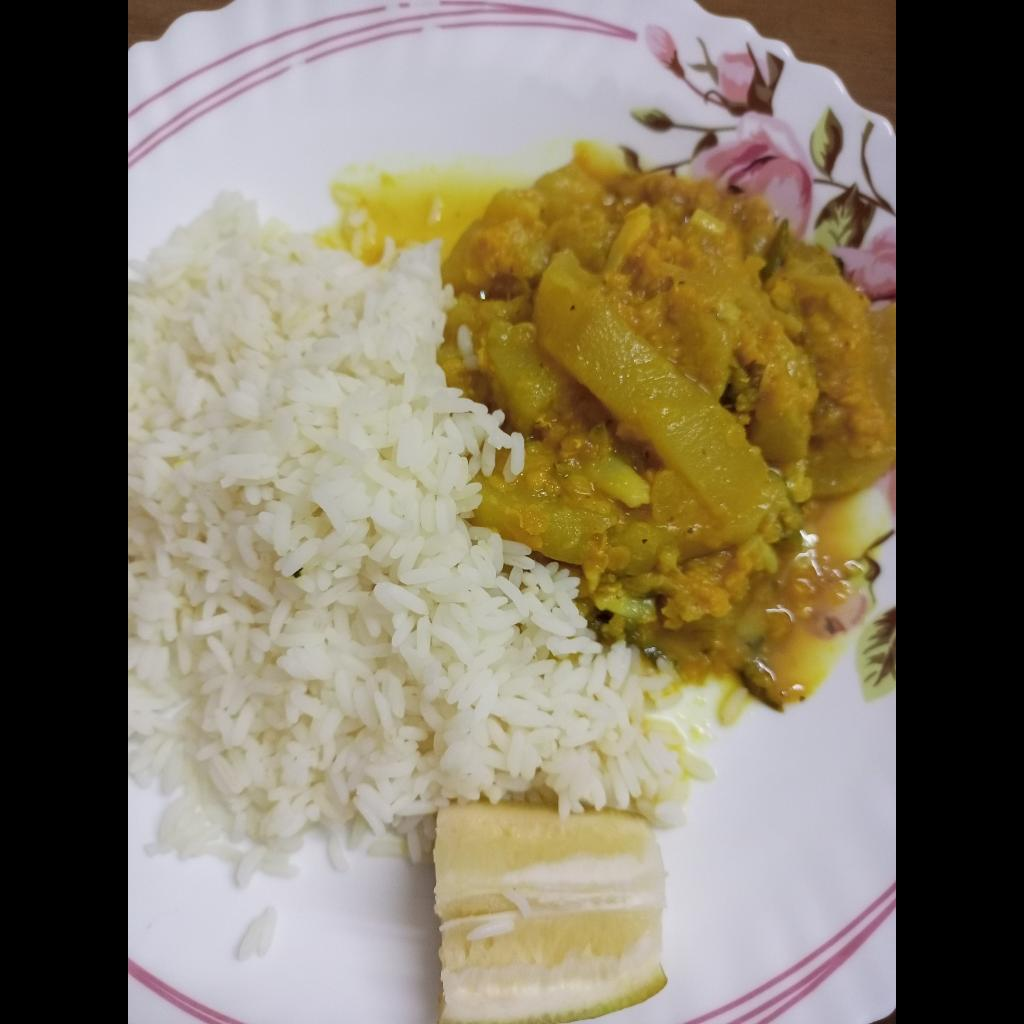lau: (443, 141, 896, 706)
lemon: (431, 808, 672, 1024)
rice: (128, 185, 711, 899)
